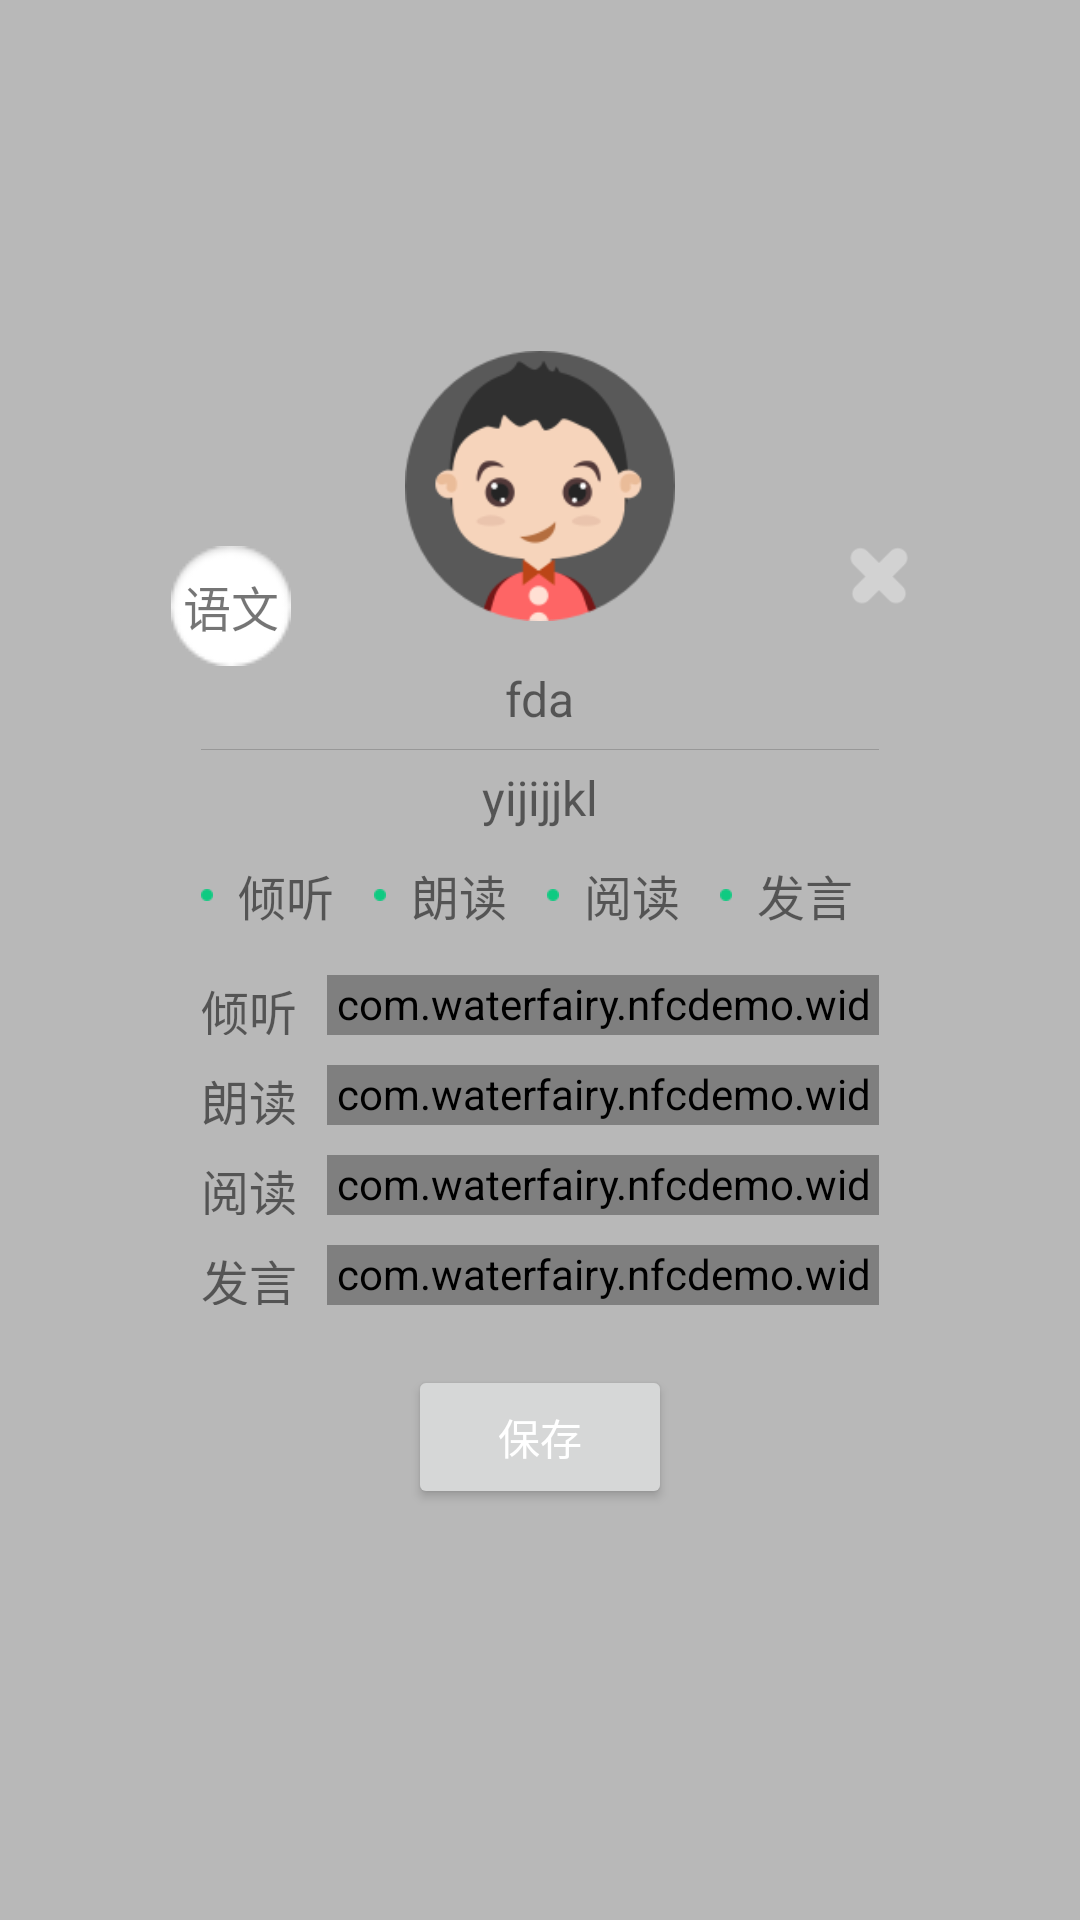

Named icons in this screenshot (1080×1920) and their bounding boxes, {"left": x1, "top": y1, "right": x2, "bottom": y2}:
close: {"left": 852, "top": 549, "right": 906, "bottom": 602}
user head: {"left": 405, "top": 351, "right": 675, "bottom": 621}
